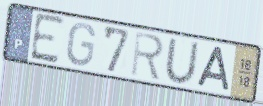7: (102, 25, 132, 75)
A: (194, 45, 232, 93)
E: (28, 11, 67, 67)
G: (64, 22, 97, 68)
R: (129, 30, 166, 83)
U: (163, 37, 201, 87)
